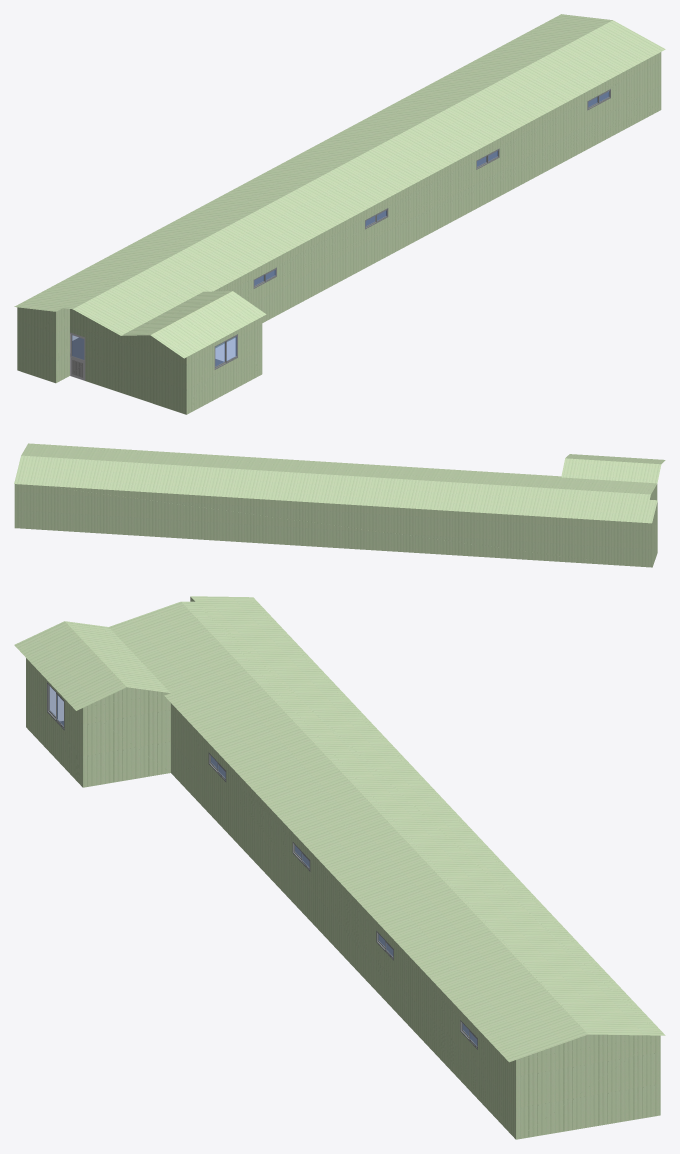
The picture shows the model from 3 angles, top to bottom: view 1: azimuth 30°, elevation 25°; view 2: azimuth 150°, elevation 25°; view 3: azimuth 270°, elevation 25°; orthographic projection. The views are drawn at different scales.
Parts seen in each view (by area): view 1: 雞三new#1; view 2: 雞三new#1; view 3: 雞三new#1.
Boxes of the visible parts, bbox=[...] form: 雞三new#1: bbox=[14, 14, 665, 414]; 雞三new#1: bbox=[14, 443, 665, 567]; 雞三new#1: bbox=[14, 596, 665, 1139].
Size of the model in its own units: 37.47 by 3.5 by 22.21.
7 materials, 5 textured.
